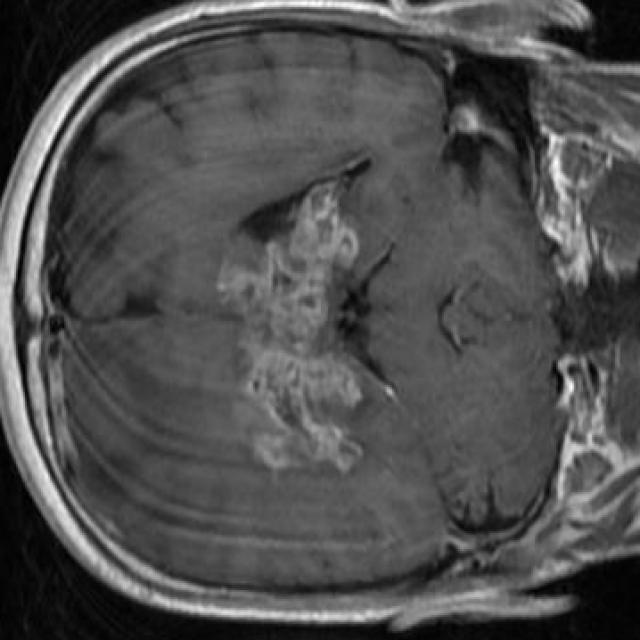glioma: (216, 180, 364, 474)
